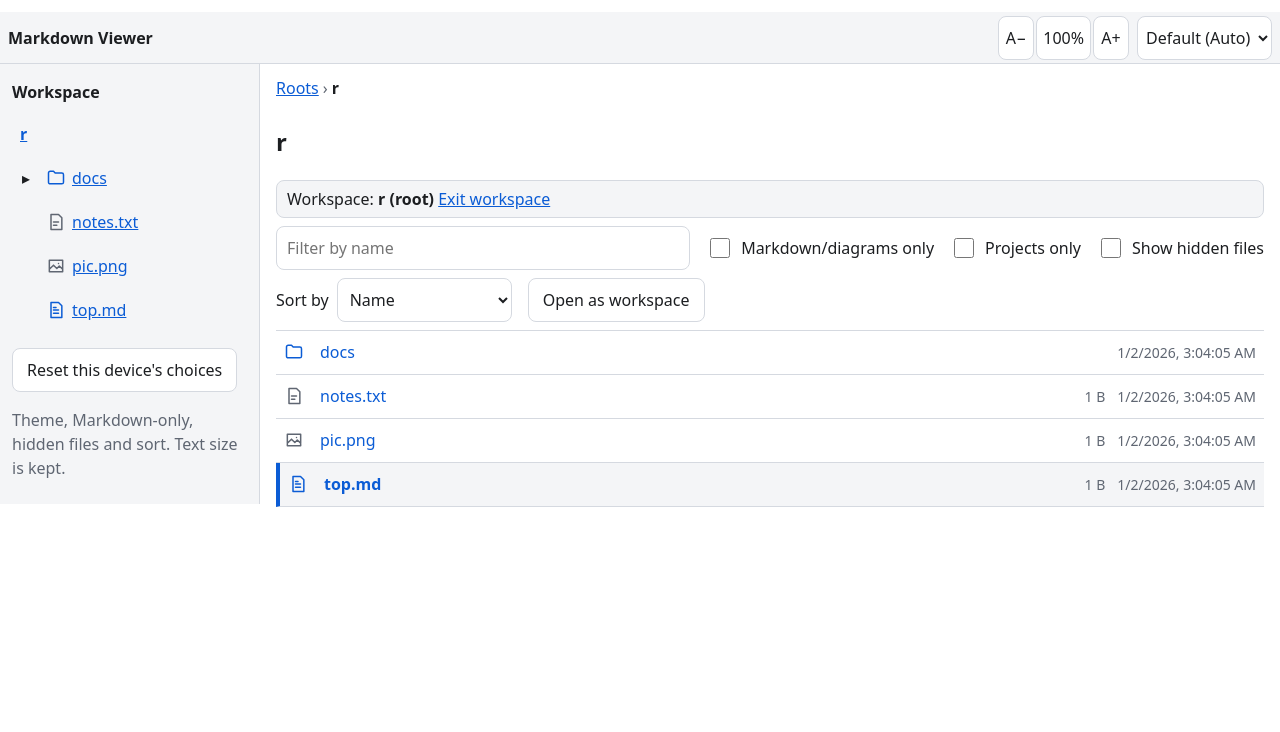
Test: WorkspaceTree › follows the browse view show-hidden toggle
Expected: the 1st link "top.md" is shown, [46,299,126,321]
Expected: the link ".git" is not shown
Click the checkbox labelled "Show hidden files" at [1111, 248], box [1101,238,1121,258]
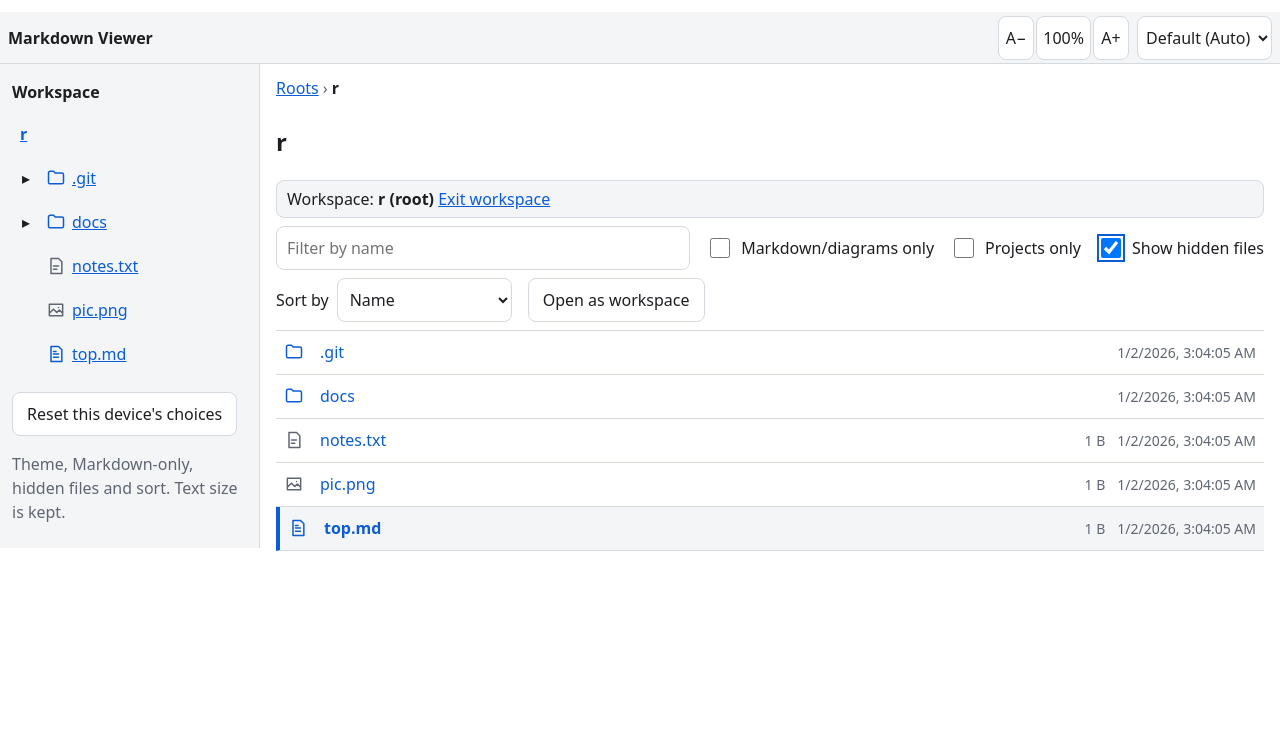
Expected: the 1st link ".git" is shown, [46,167,96,189]
